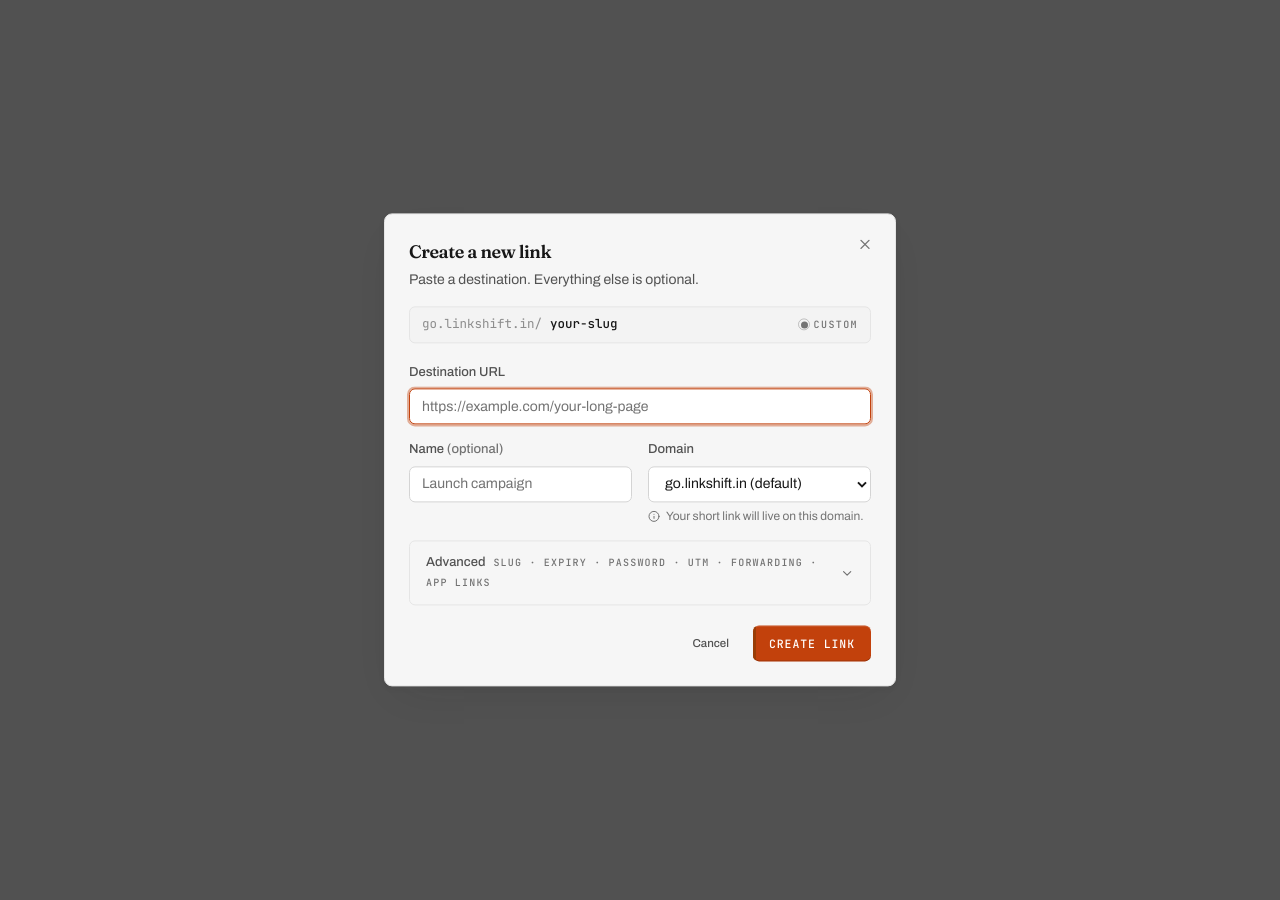
Test case: CreateLinkDialog mobile app deep linking (Pro-gated) › PRO: blocks submit when the feature is on but the scheme is missing
Expected: the dropdown labelled "Domain" shows "go.linkshift.in (default)", [648,466,871,502]
Type "https://example.com/app" into the field labelled "Destination URL" at (640,407), box [409,389,871,425]
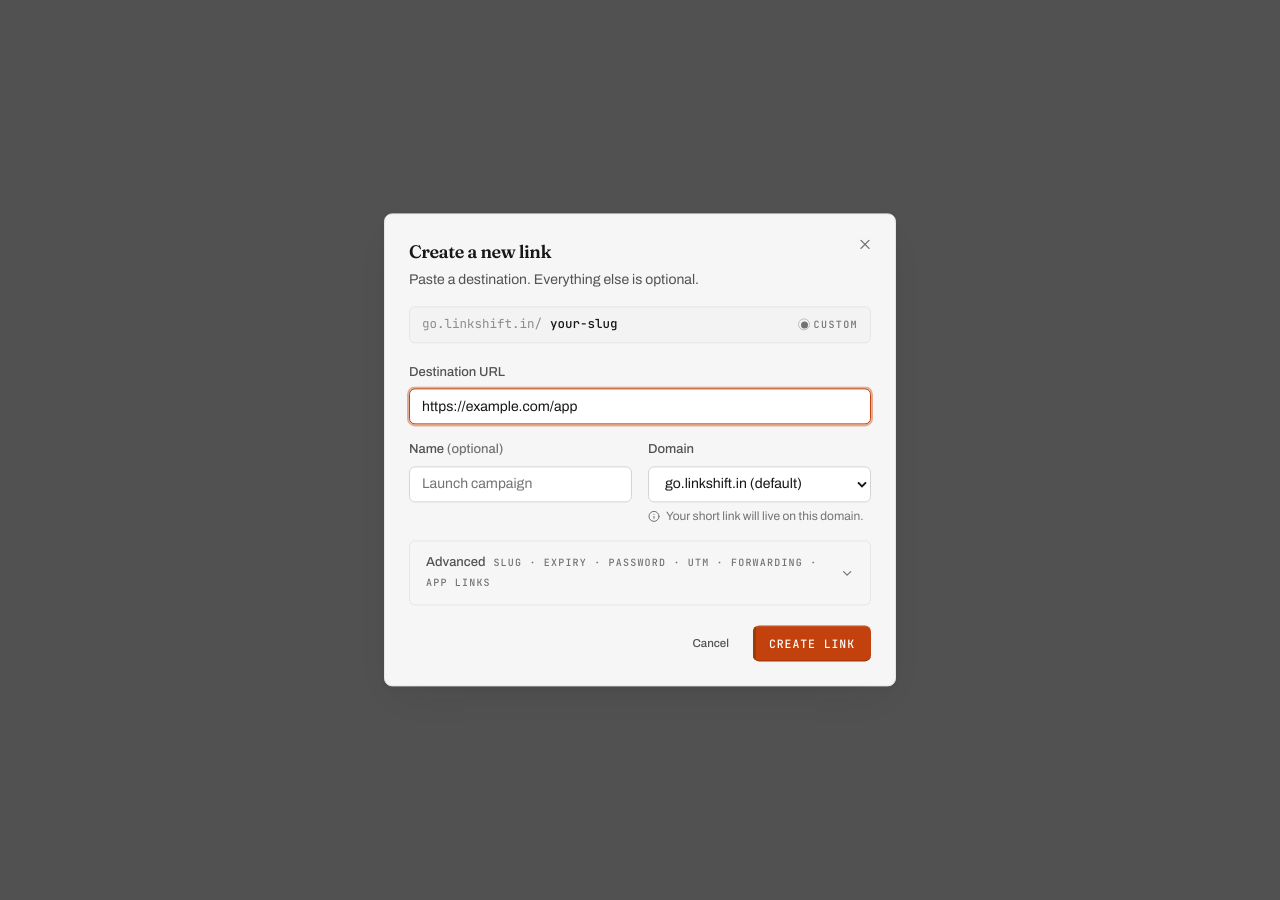
Click the button "Advanced" at (456,563), box [410,542,870,605]
(page scrolled)
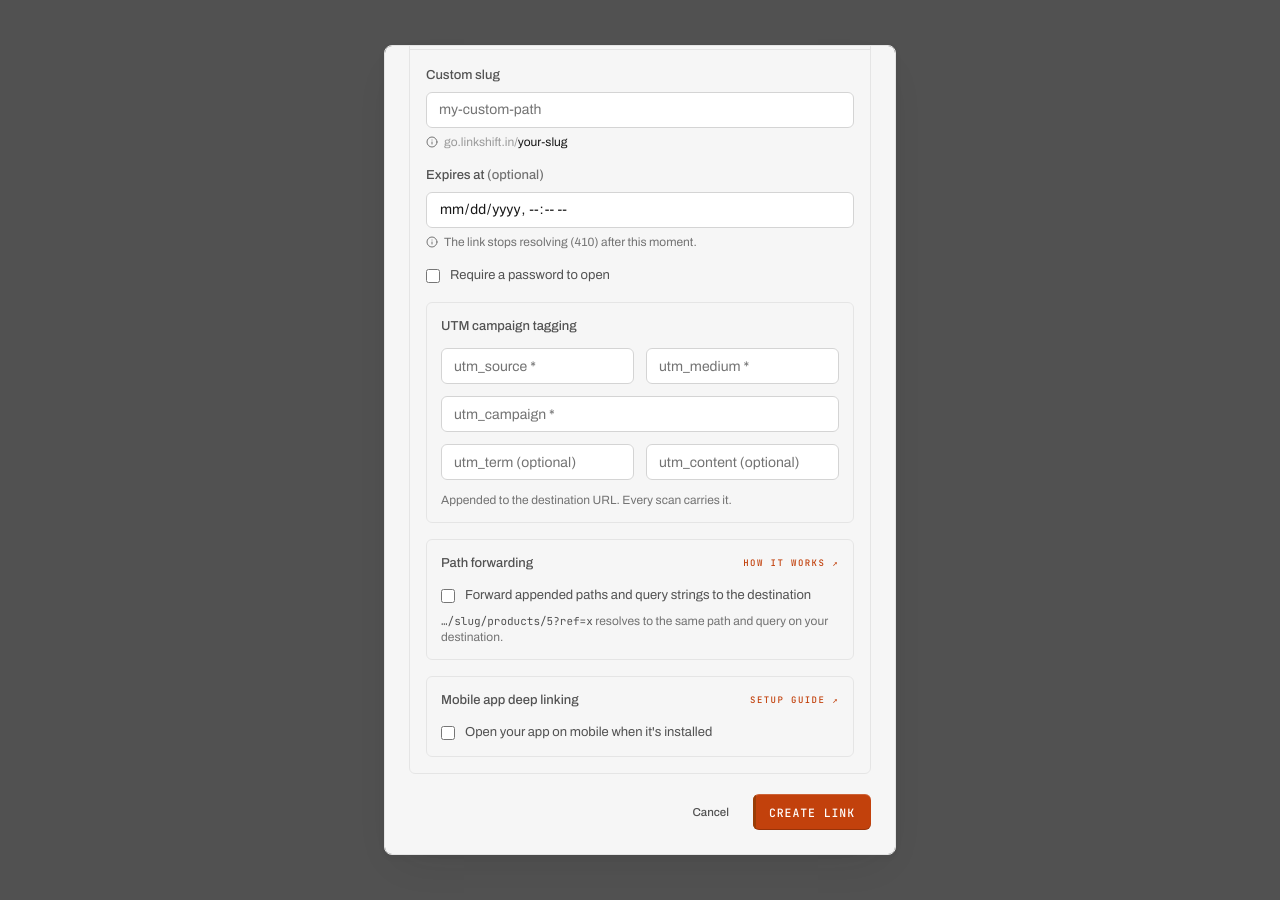
Click the checkbox labelled "Open your app on mobile when it's installed" at (448,732), box [441,726,455,740]
(page scrolled)
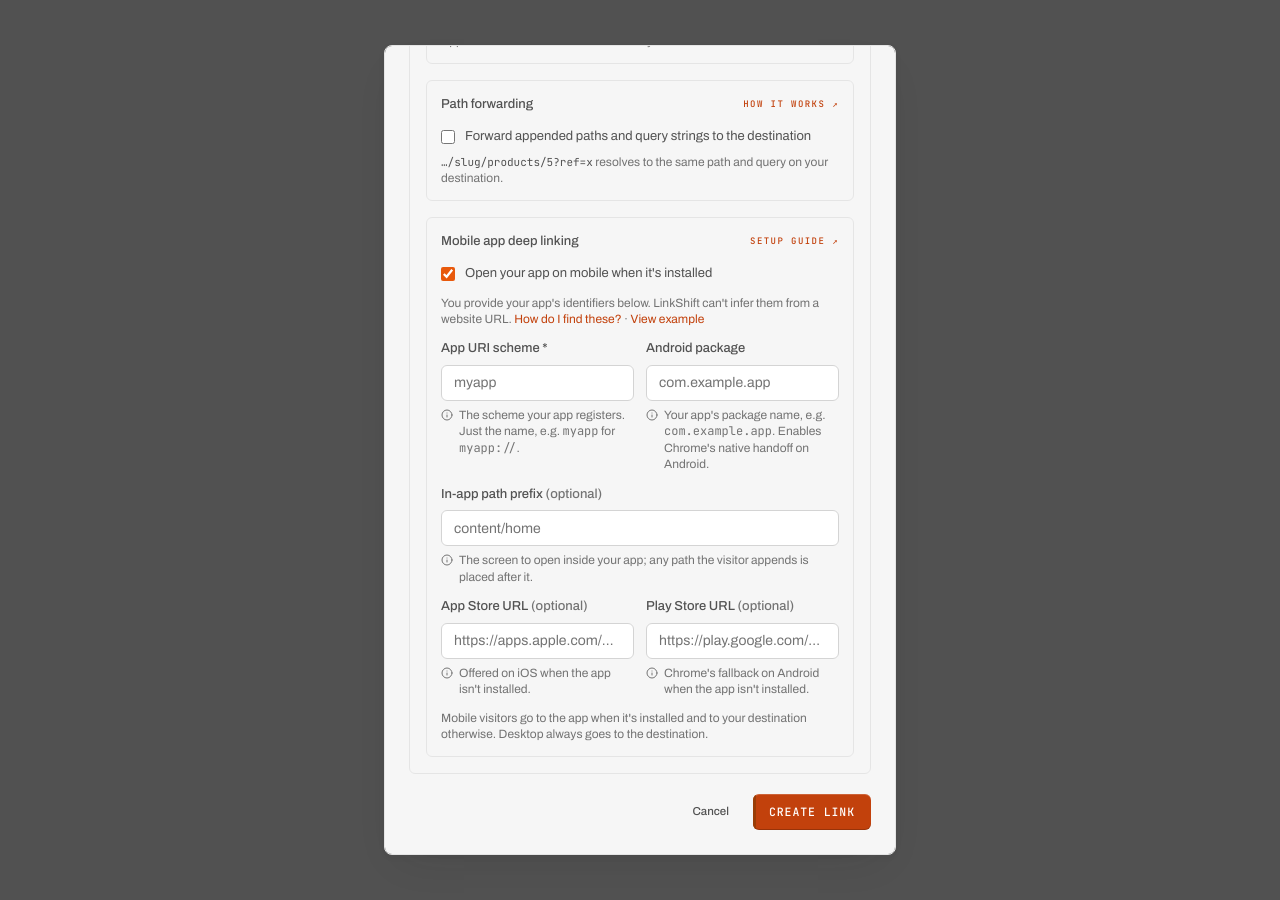
Click the button "Create link" at (812,812), box [753,794,871,830]
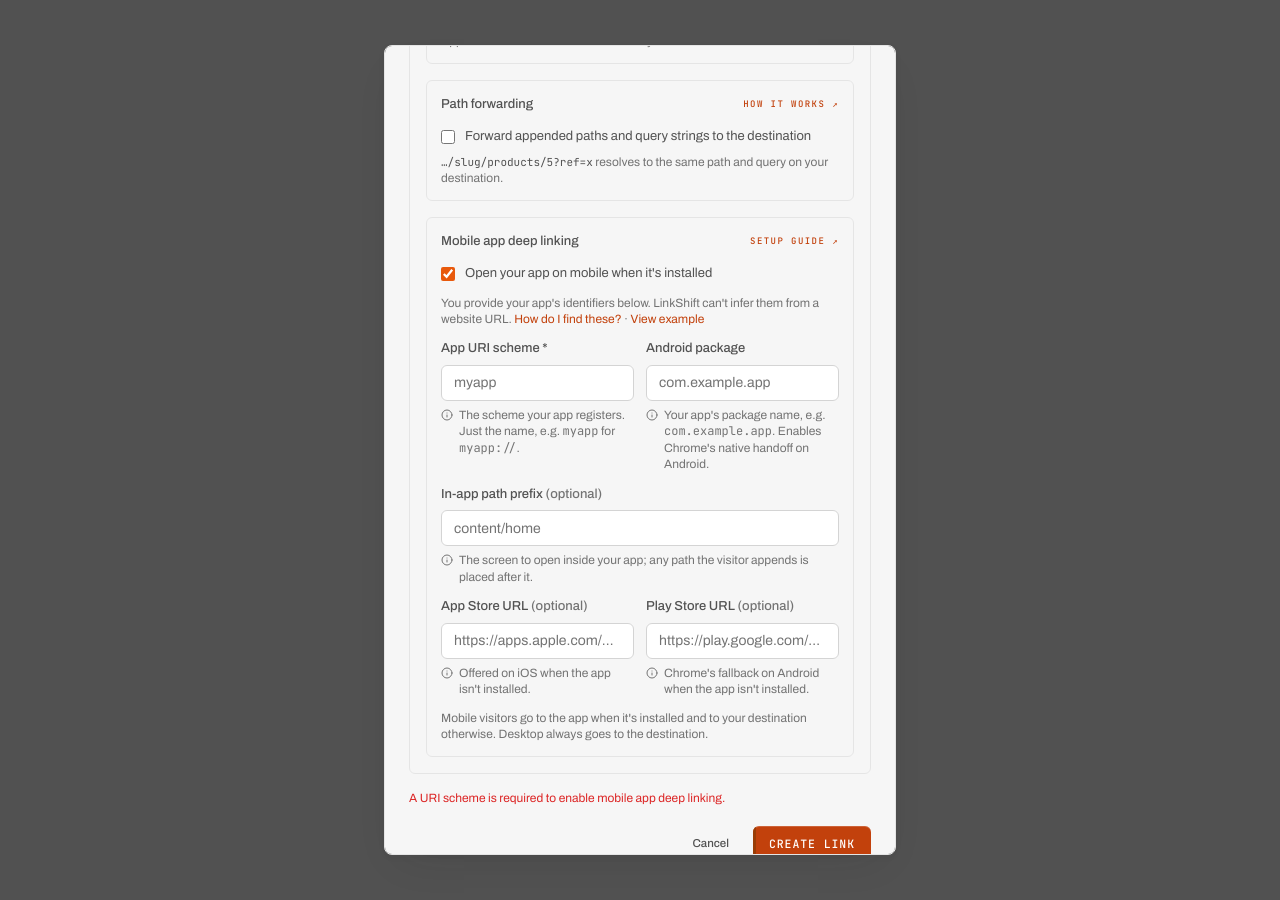
Result: the text "A URI scheme is required to enable mobile app deep linking." is shown at [409,791,725,805]
